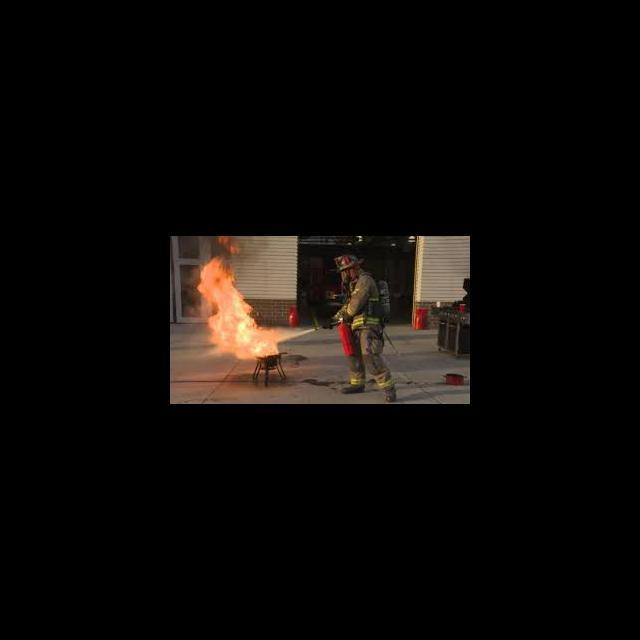Fire: (194, 257, 279, 360)
